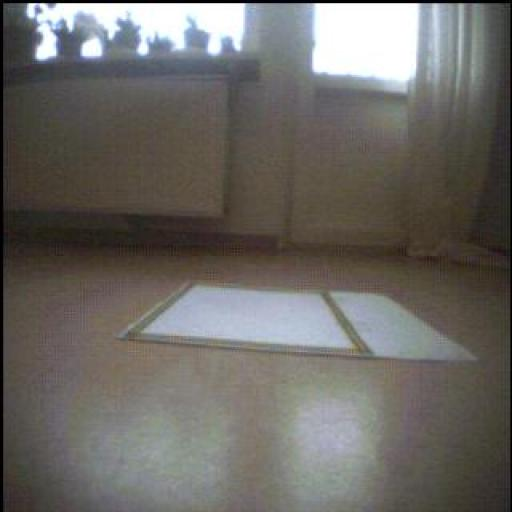Pad: (121, 284, 476, 361)
